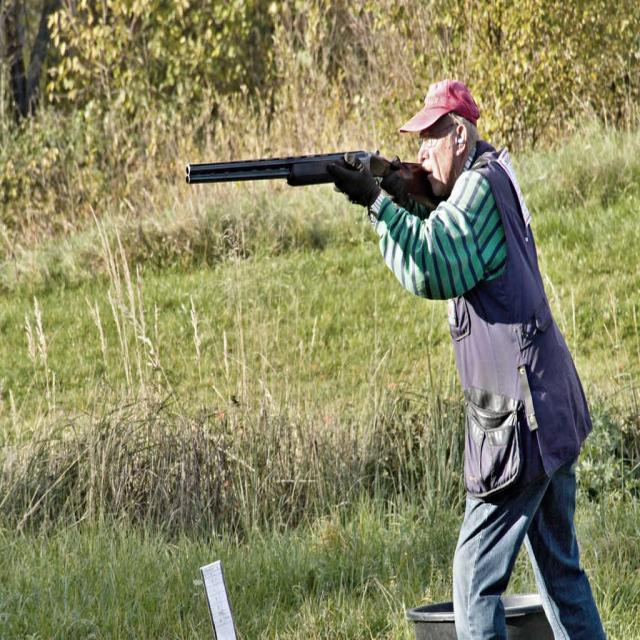weapon: (186, 149, 448, 211)
